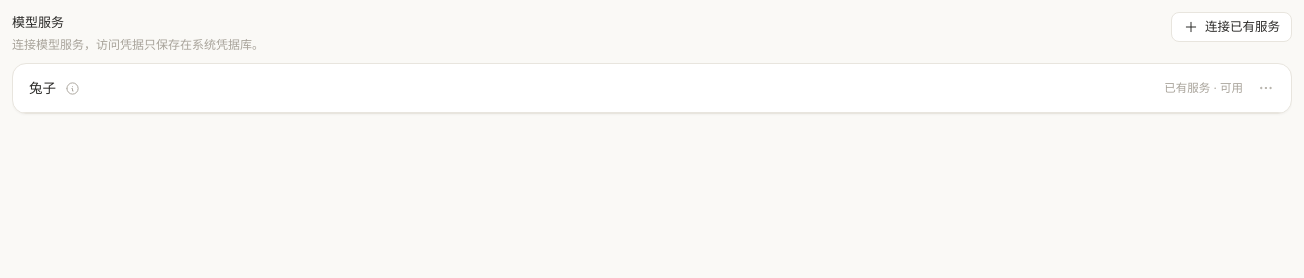
Test case: ModelServicesSettings › keeps a successful connection test result when refreshing the catalog fails
Press Enter in the button named "兔子 更多操作", box 1251,73 -> 1281,103
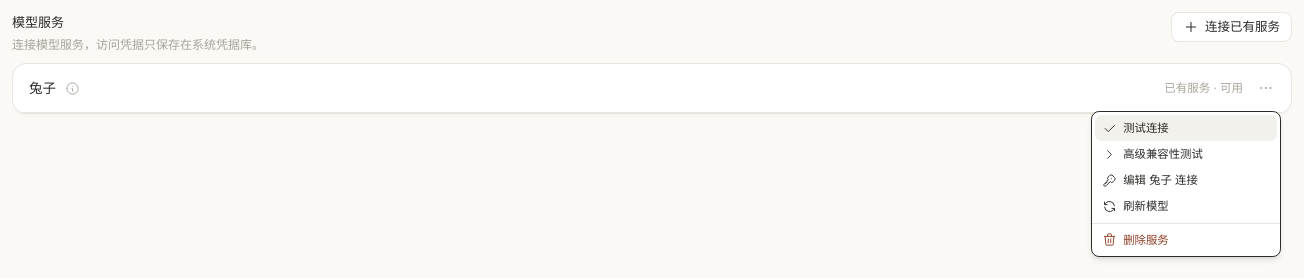
Click the menu item "测试连接".
click(1186, 128)  # box 1095,115 -> 1277,141
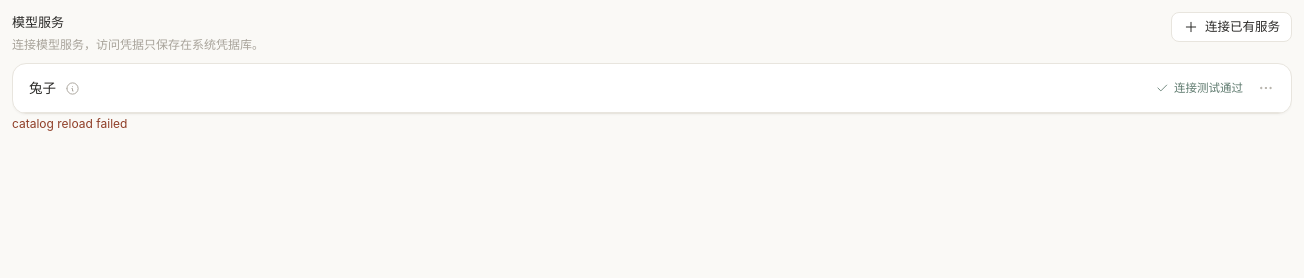
Result: the text "连接测试通过" is shown at 1155,78 -> 1243,98
Result: the message "catalog reload failed" is shown at 12,116 -> 127,131
